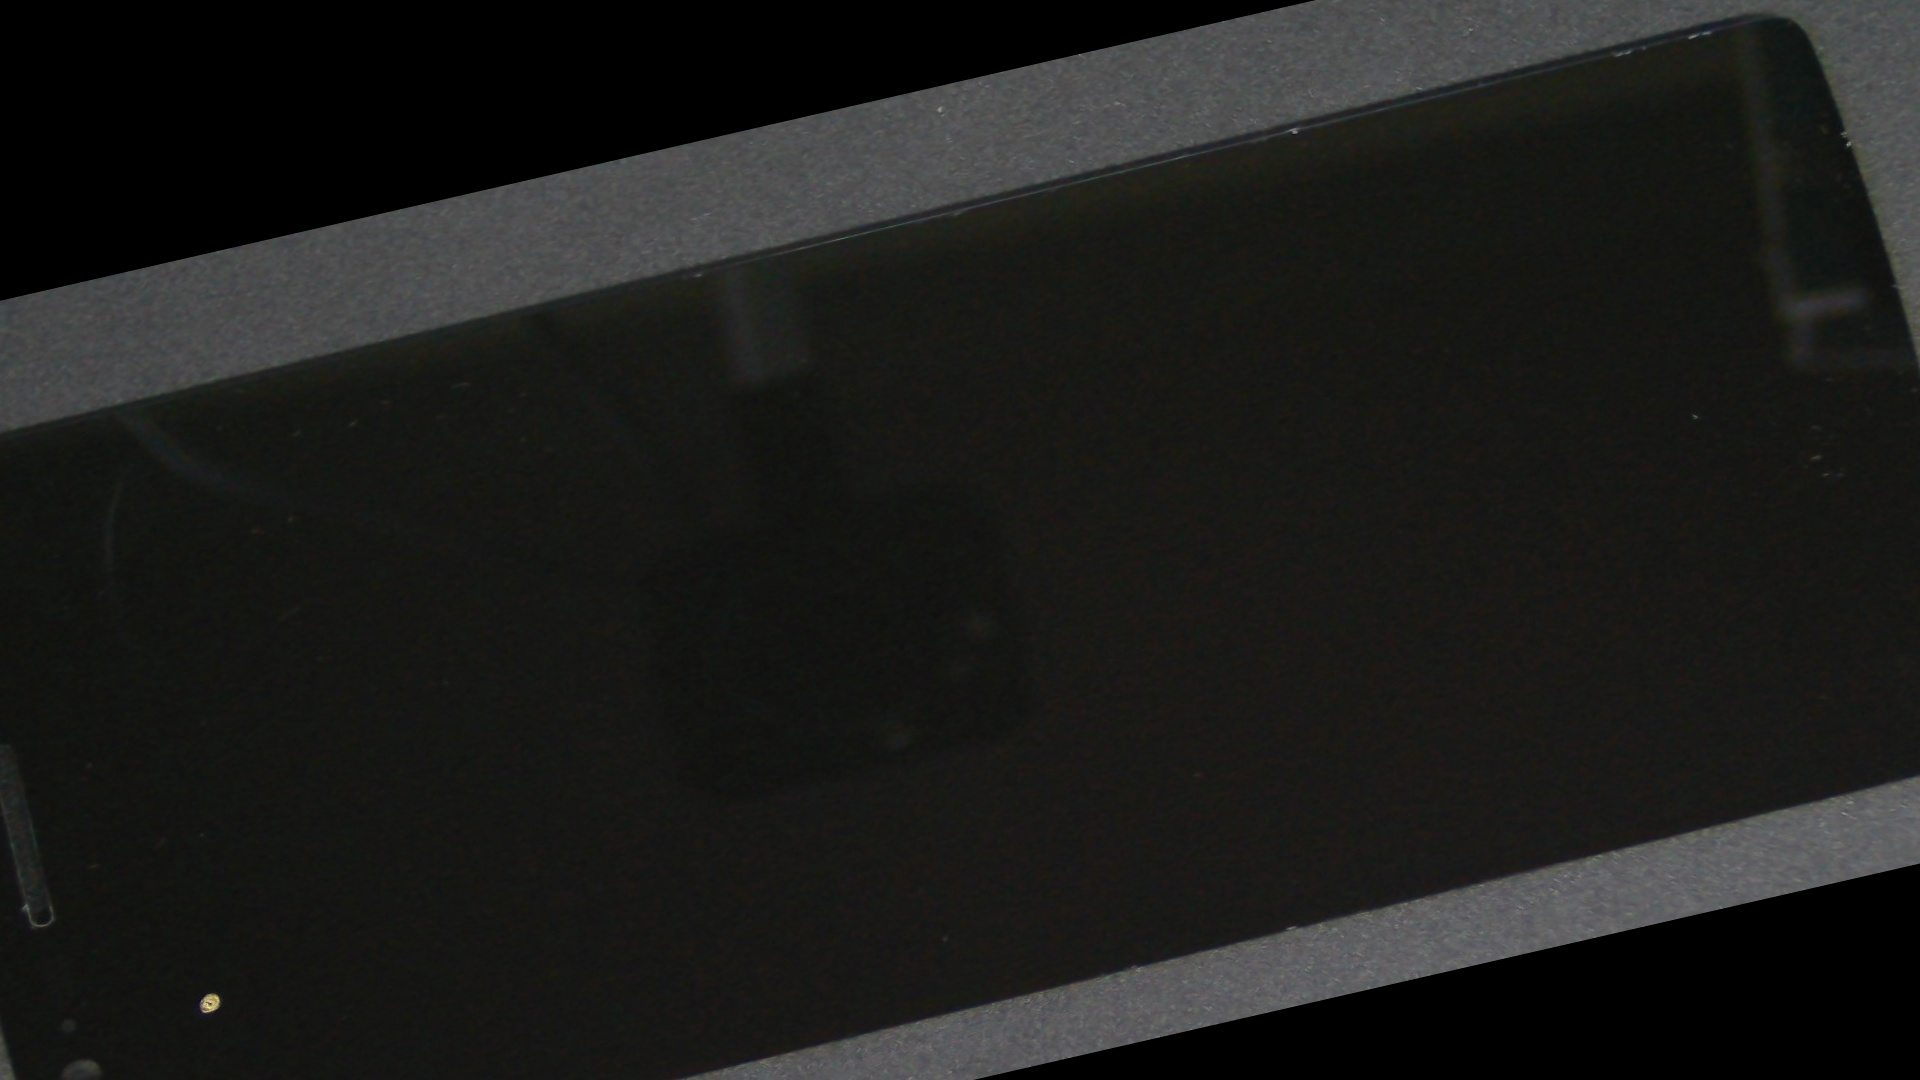oil: (0, 604, 423, 1080)
